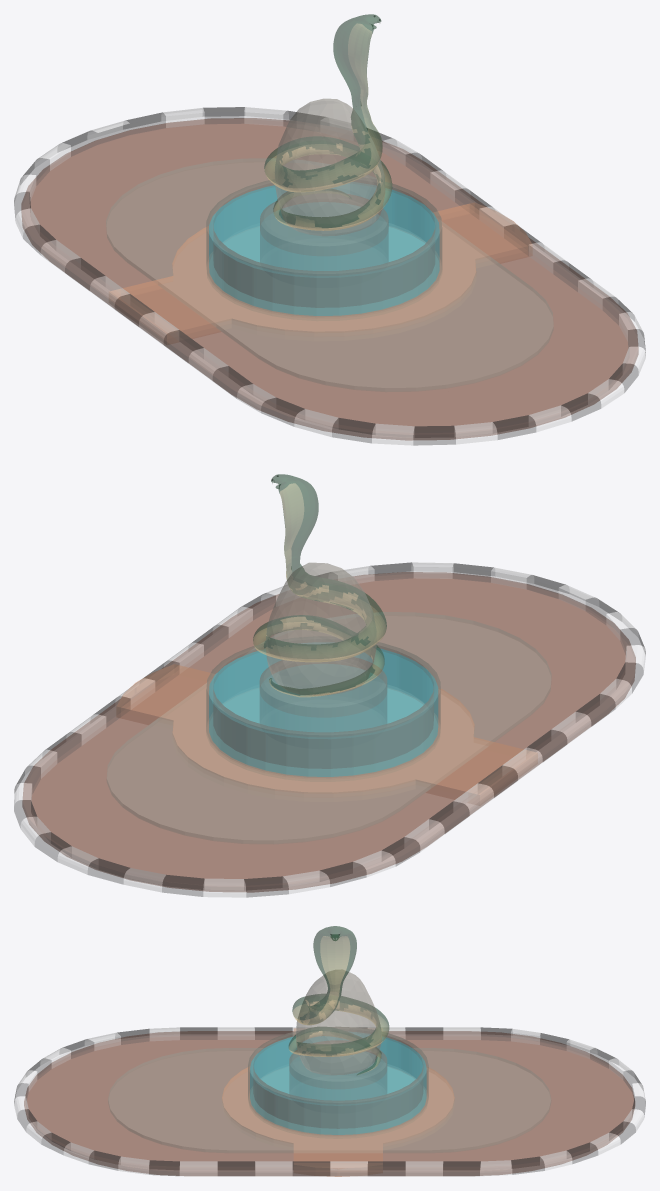
Rendered from Pond.fbx.
3 renders of one model, top to bottom at view 1: azimuth 30°, elevation 25°; view 2: azimuth 150°, elevation 25°; view 3: azimuth 270°, elevation 25°, orthographic. The views are drawn at different scales.
Visible parts, largest first — view 1: 1Pond; view 2: 1Pond; view 3: 1Pond.
Part boxes in pixels (bbox=[...]): 1Pond: bbox=[14, 14, 645, 445]; 1Pond: bbox=[14, 474, 645, 897]; 1Pond: bbox=[14, 926, 645, 1176].
Bounding box in the file's own units: 1203 × 767 × 2260.
